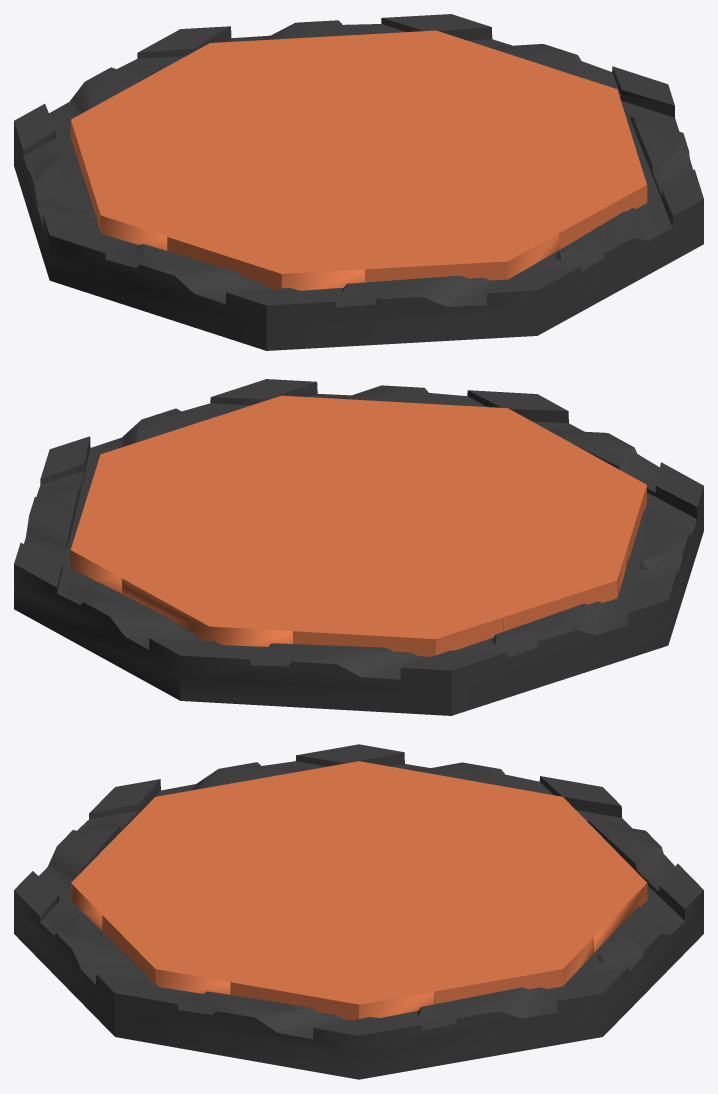
The model's file is Platform-1.fbx.
3 views of the same model, one above another, from view 1: azimuth 30°, elevation 25°; view 2: azimuth 150°, elevation 25°; view 3: azimuth 270°, elevation 25° (orthographic). The views are drawn at different scales.
Parts seen in each view (by area): view 1: Platform; view 2: Platform; view 3: Platform.
Boxes of the visible parts, bbox=[...] form: Platform: bbox=[14, 14, 703, 350]; Platform: bbox=[14, 379, 703, 715]; Platform: bbox=[14, 744, 703, 1079].
Bounding box in the file's own units: 1.44 × 0.1177 × 1.44.
